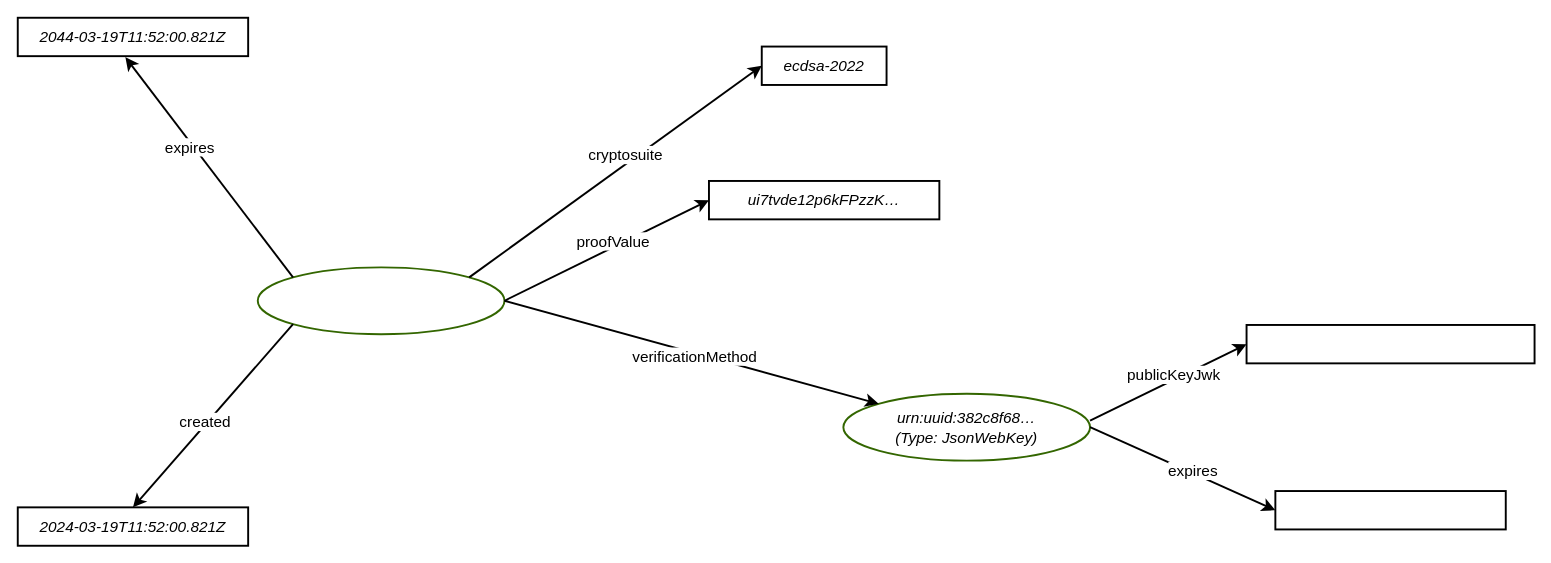
The diagram is 1551 pixels wide and 563 high, and some of its shapes have lost their labels. The shapes that lost their labels are listed below. From the top down, each one's centre as x and y in pixels, then its label:
point (380, 300): https://proof.example.org (Type: DataIntegrityProof)
point (1390, 344): {\"key_ops\":[\"verify\"],\"ext\":true…
point (1390, 510): 2055-02-24T 00:00:00.821Z
